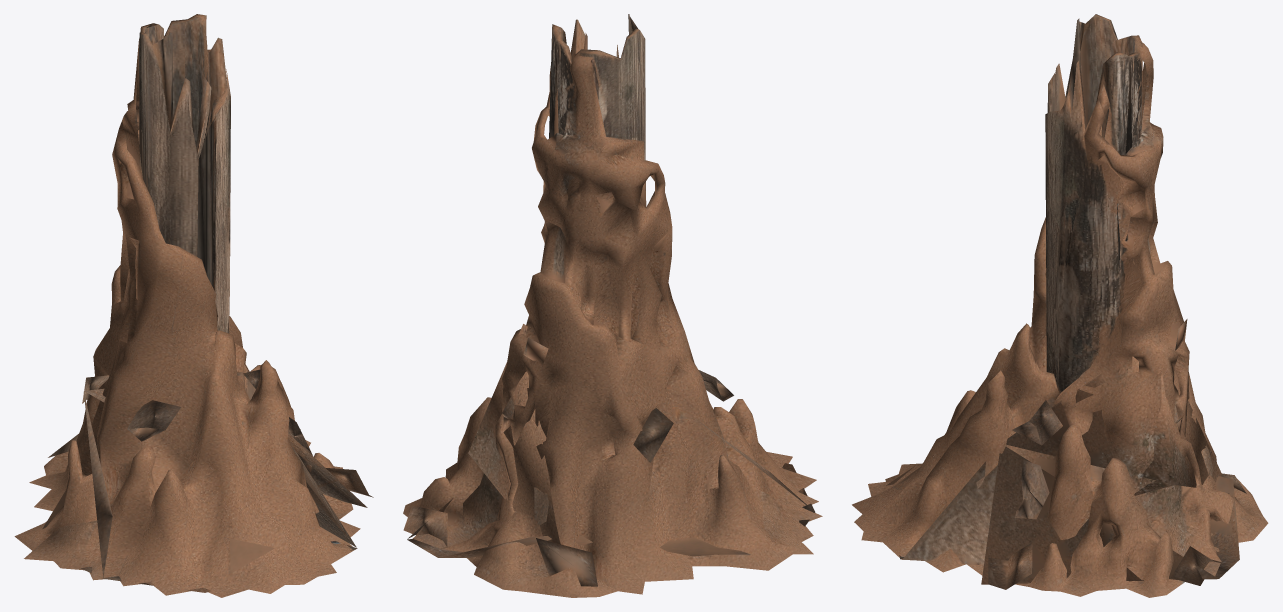
Rendered from Meshy_AI_Termite_Throne_20261028_texture.fbx.
3 views of the same model, side by side, from view 1: azimuth 30°, elevation 25°; view 2: azimuth 150°, elevation 25°; view 3: azimuth 270°, elevation 25° (orthographic). The views are drawn at different scales.
Parts seen in each view (by area): view 1: Mesh_0; view 2: Mesh_0; view 3: Mesh_0.
Part boxes in pixels (box(x1,y1,x2,y2)): Mesh_0: box(14, 14, 373, 597); Mesh_0: box(403, 14, 822, 597); Mesh_0: box(852, 14, 1268, 597).
Size of the model in its own units: 69.92 by 95.36 by 73.29.
1 material, 1 textured.
